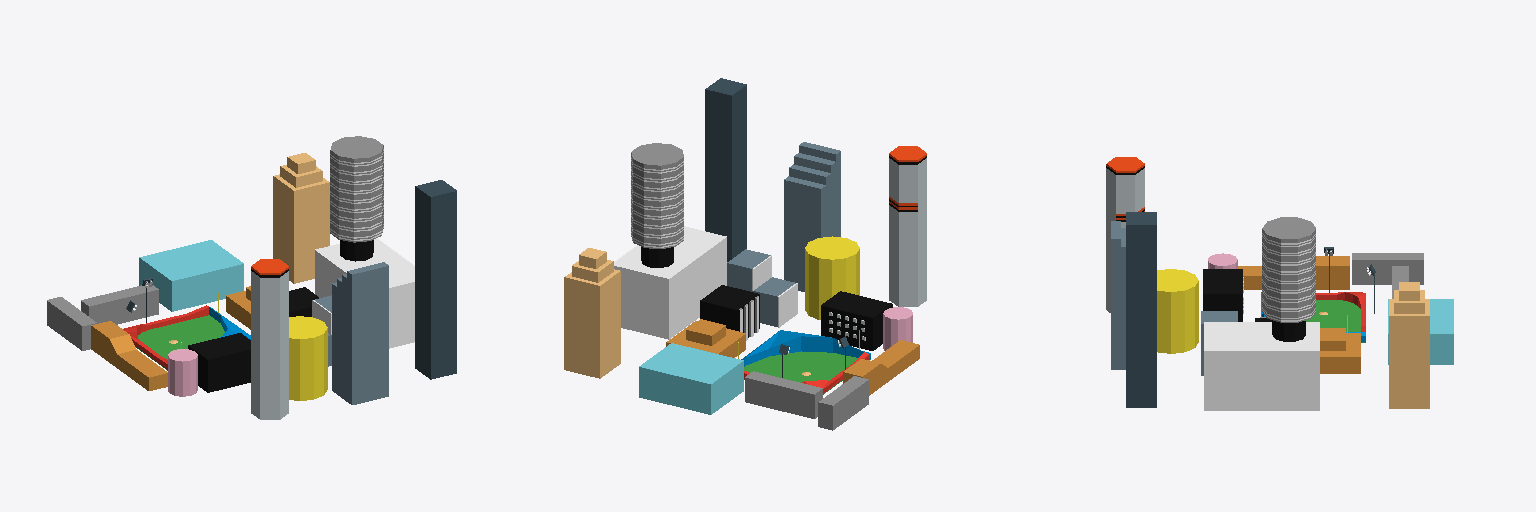
The model's file is model-triangulated.obj.
3 renders of one model, left to right at view 1: azimuth 30°, elevation 25°; view 2: azimuth 150°, elevation 25°; view 3: azimuth 270°, elevation 25°, orthographic.
Visible parts, largest first — view 1: group[number redacted], group[number redacted], group[number redacted], group[number redacted], group[number redacted], group[number redacted], group[number redacted], group[number redacted], group[number redacted], group[number redacted], group[number redacted], group[number redacted] (+7 smaller); view 2: group[number redacted], group[number redacted], group[number redacted], group[number redacted], group[number redacted], group[number redacted], group[number redacted], group[number redacted], group[number redacted], group[number redacted], group[number redacted], group[number redacted] (+7 smaller); view 3: group[number redacted], group[number redacted], group[number redacted], group[number redacted], group[number redacted], group[number redacted], group[number redacted], group[number redacted], group[number redacted], group[number redacted], group[number redacted], group[number redacted] (+4 smaller).
Boxes of the visible parts, box(x1,y1,x2,y2) form: group[number redacted]: box(415, 180, 456, 379); group[number redacted]: box(332, 262, 388, 404); group[number redacted]: box(251, 259, 288, 419); group[number redacted]: box(273, 153, 329, 283); group[number redacted]: box(139, 240, 243, 311); group[number redacted]: box(315, 238, 414, 348); group[number redacted]: box(289, 316, 327, 400); group[number redacted]: box(188, 333, 250, 392); group[number redacted]: box(91, 321, 167, 390); group[number redacted]: box(81, 285, 158, 324); group[number redacted]: box(135, 315, 224, 370); group[number redacted]: box(47, 297, 96, 350); group[number redacted]: box(614, 226, 726, 339); group[number redacted]: box(705, 78, 746, 261); group[number redacted]: box(564, 248, 620, 378); group[number redacted]: box(889, 146, 926, 306); group[number redacted]: box(784, 142, 840, 291); group[number redacted]: box(639, 343, 743, 414); group[number redacted]: box(805, 236, 859, 319); group[number redacted]: box(727, 249, 797, 327); group[number redacted]: box(821, 291, 892, 350); group[number redacted]: box(745, 371, 822, 418); group[number redacted]: box(744, 351, 857, 394); group[number redacted]: box(700, 285, 759, 340); group[number redacted]: box(1204, 322, 1319, 410); group[number redacted]: box(1126, 212, 1156, 407); group[number redacted]: box(1389, 282, 1429, 408); group[number redacted]: box(1157, 269, 1198, 353); group[number redacted]: box(1106, 157, 1144, 312); group[number redacted]: box(1111, 221, 1125, 369); group[number redacted]: box(1352, 253, 1423, 284); group[number redacted]: box(1320, 328, 1360, 373); group[number redacted]: box(1203, 269, 1242, 321); group[number redacted]: box(1388, 299, 1453, 364); group[number redacted]: box(1238, 256, 1349, 289); group[number redacted]: box(1262, 217, 1315, 247).
Bounding box in the file's own units: 6.83 × 4.34 × 7.48.